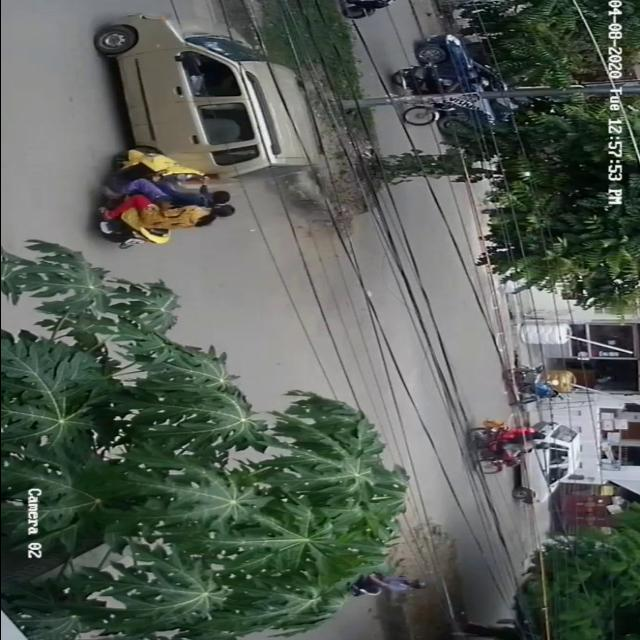accident: (66, 0, 330, 255)
